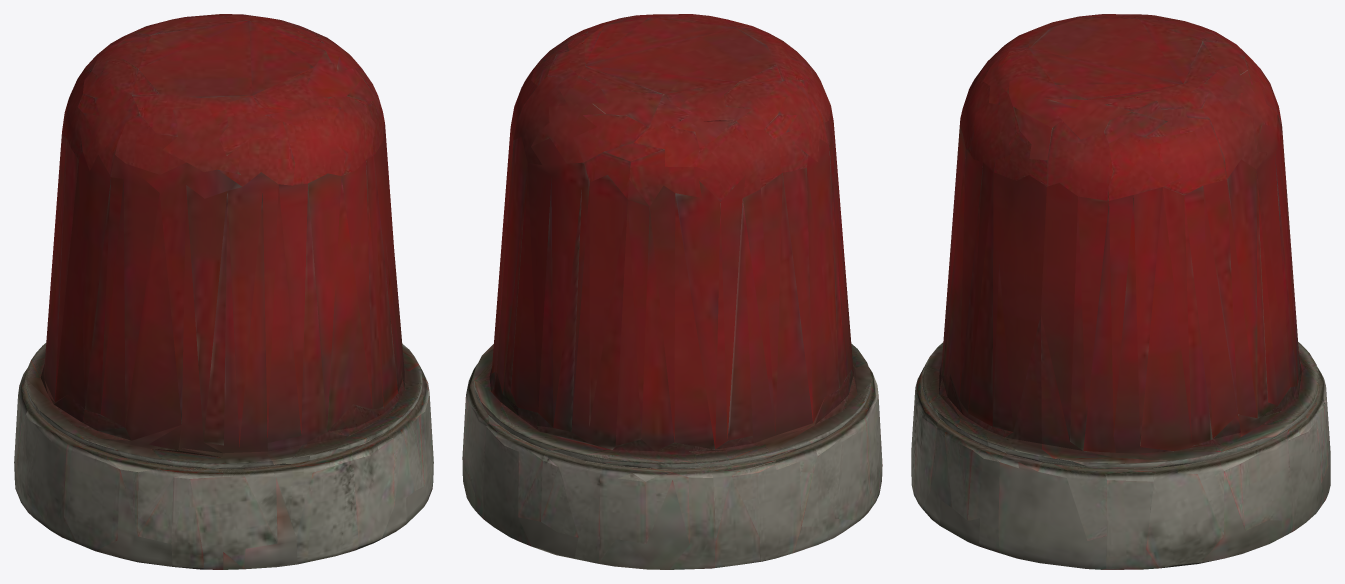
File: beacon.glb
3 views of the same model, side by side, from view 1: azimuth 30°, elevation 25°; view 2: azimuth 150°, elevation 25°; view 3: azimuth 270°, elevation 25° (orthographic).
Parts seen in each view (by area): view 1: Mesh_0; view 2: Mesh_0; view 3: Mesh_0.
Boxes of the visible parts, left/top/right/bottom form: Mesh_0: left=14, top=14, right=433, bottom=569; Mesh_0: left=462, top=14, right=882, bottom=569; Mesh_0: left=911, top=14, right=1330, bottom=569.
Bounding box in the file's own units: 1.69 × 1.9 × 1.69.
Materials: 1 (1 with a texture image).
